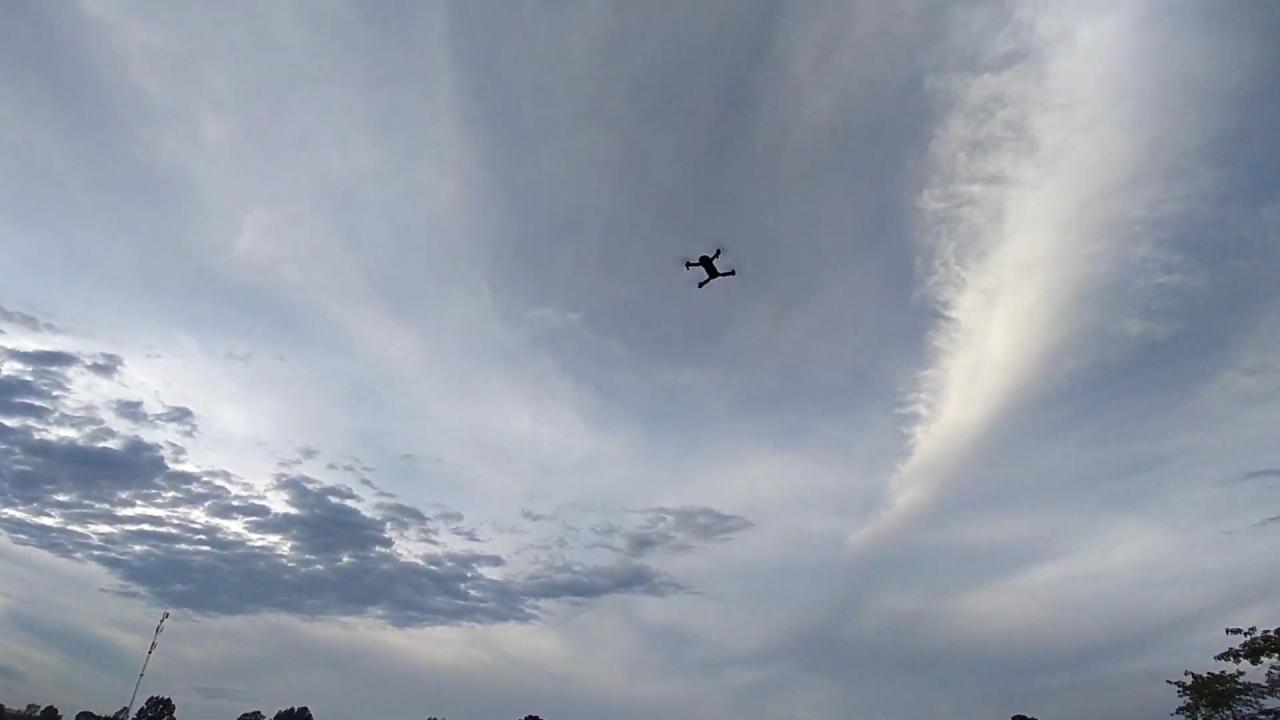Drone: (672, 236, 748, 298)
